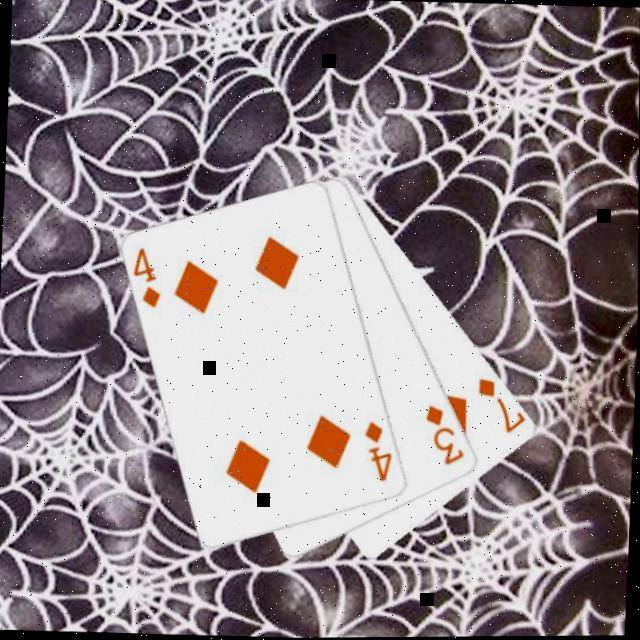3D: (422, 402, 471, 470)
4D: (361, 418, 398, 486), (131, 245, 167, 312)
7D: (474, 375, 530, 439)
